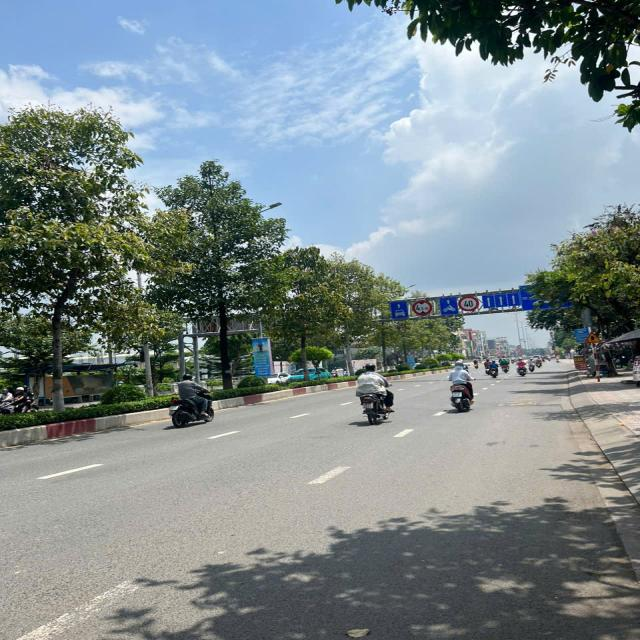motobyte: (153, 363, 243, 446), (332, 348, 409, 432), (440, 344, 489, 429), (517, 356, 528, 378), (501, 356, 512, 374), (489, 358, 498, 378), (484, 358, 492, 377), (529, 356, 536, 374), (535, 356, 543, 368), (472, 357, 479, 370), (554, 355, 561, 366), (547, 353, 550, 363)
